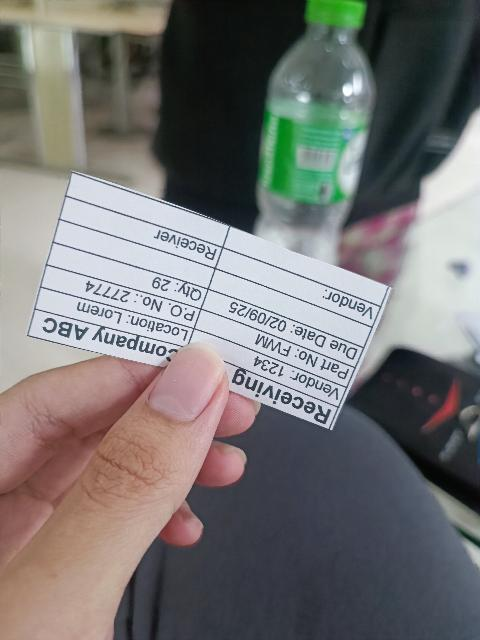PO no: (40, 265, 202, 328)
part no: (194, 309, 356, 388)
qty: (46, 241, 209, 309)
tags: (27, 173, 390, 430)
